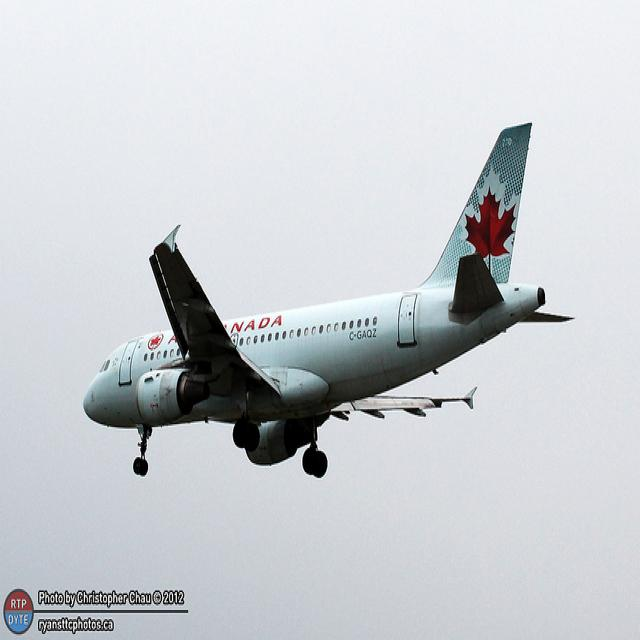airplane: (80, 119, 578, 481)
